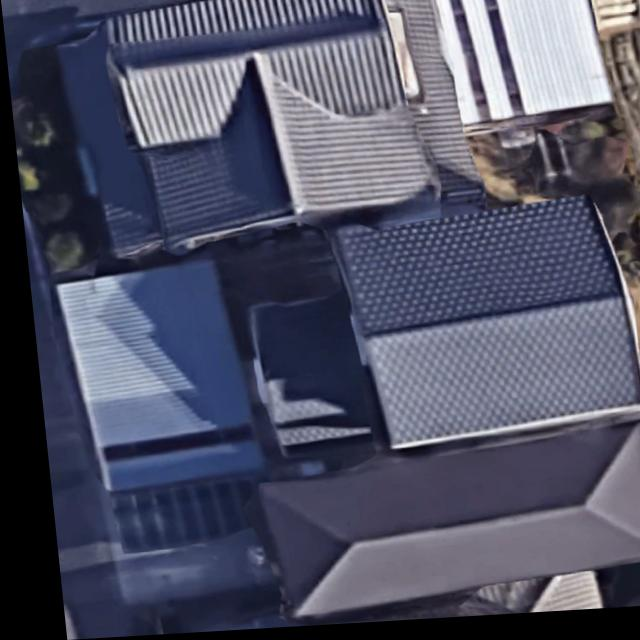Batiment: (105, 0, 425, 255), (238, 430, 640, 622), (325, 204, 631, 453), (50, 264, 252, 492), (433, 0, 608, 140)
